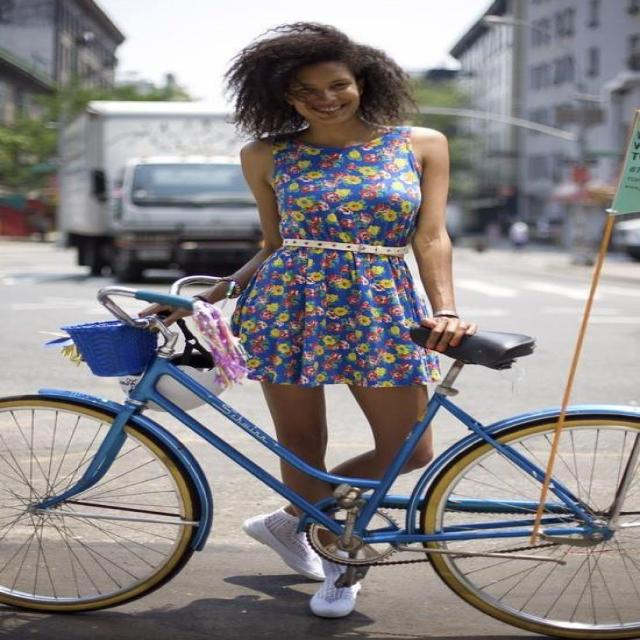dress: (234, 125, 446, 390)
